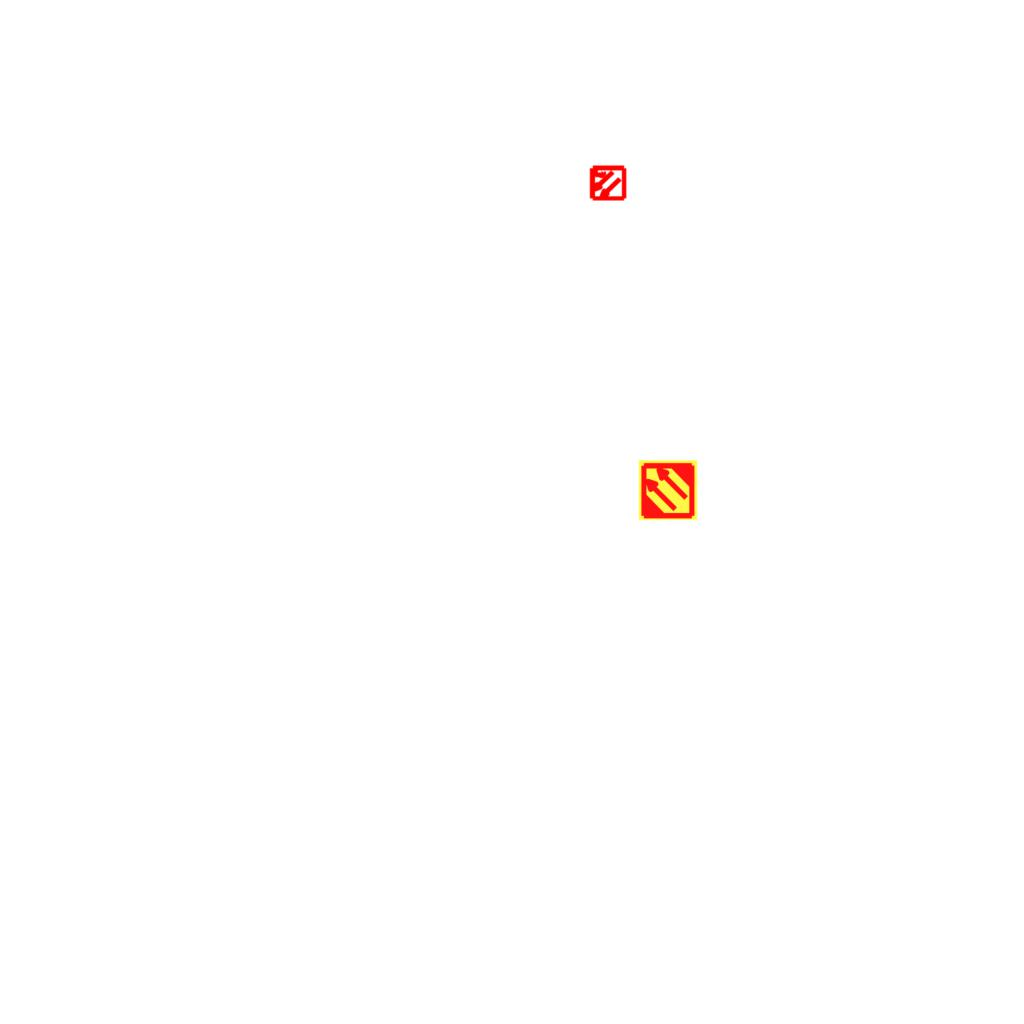ASR_Ansaugrauchmelder: (637, 459, 699, 521)
OT_Multisensormelder_(Kombination_RMO_WMD): (579, 155, 635, 211)
